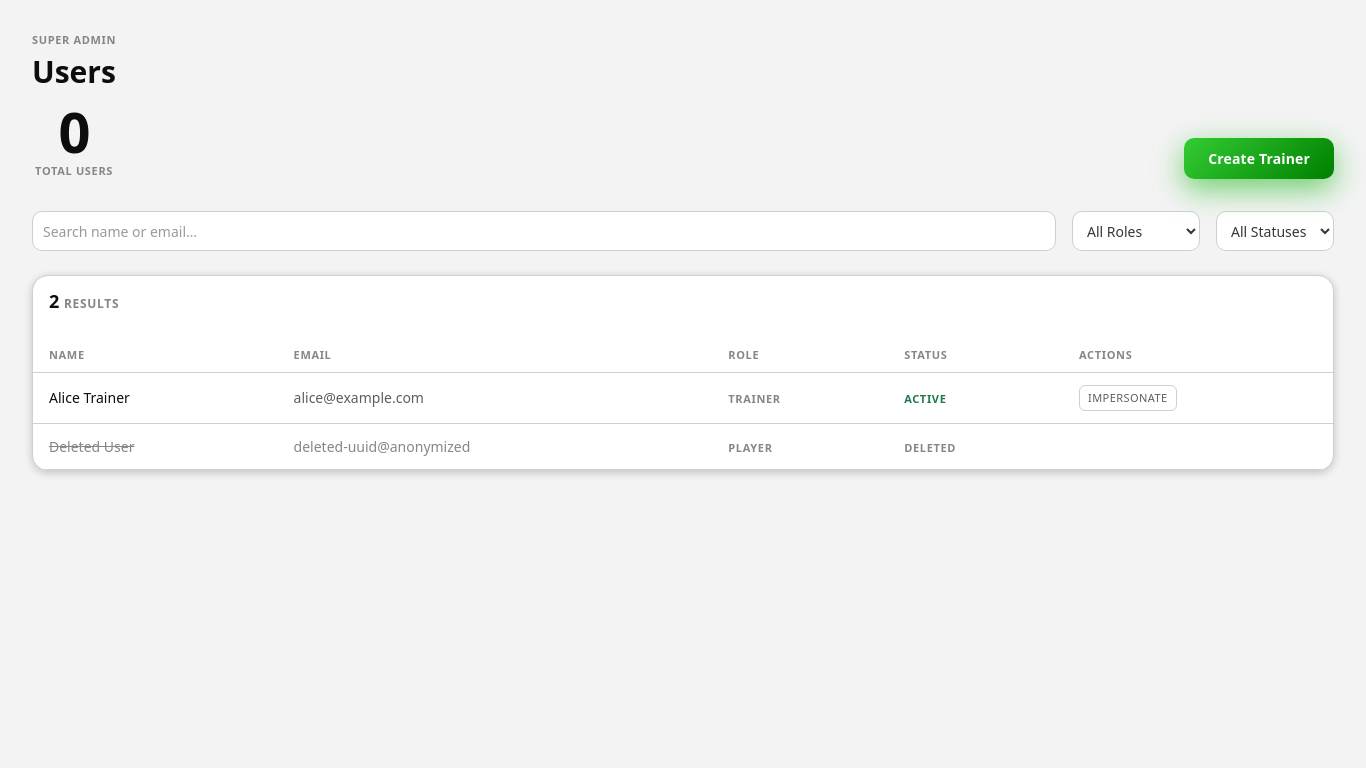
Test: SA UsersPage › opens Create User sheet on button click
This screenshot has width=1366, height=768.
Expected: the text "Alice Trainer" is shown, [49,388,130,407]
Click the button "Create Trainer": (1259, 158) [1184,138,1334,179]
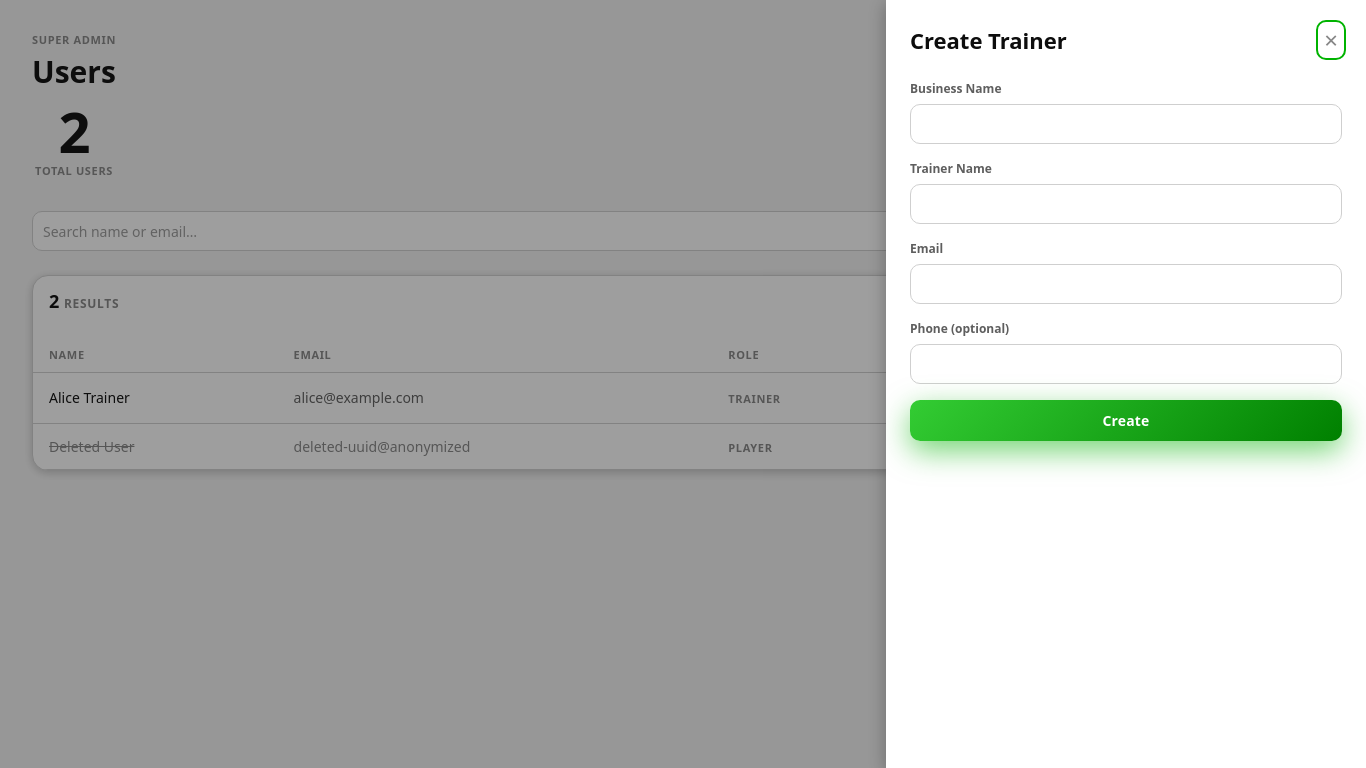
Now the dialog is shown, box [886,0,1365,767]
